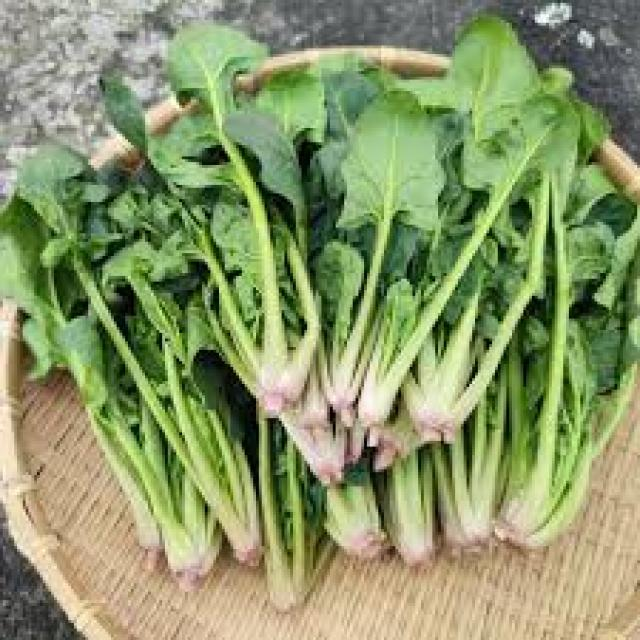Spinach bagged/loose: (91, 20, 619, 491)
